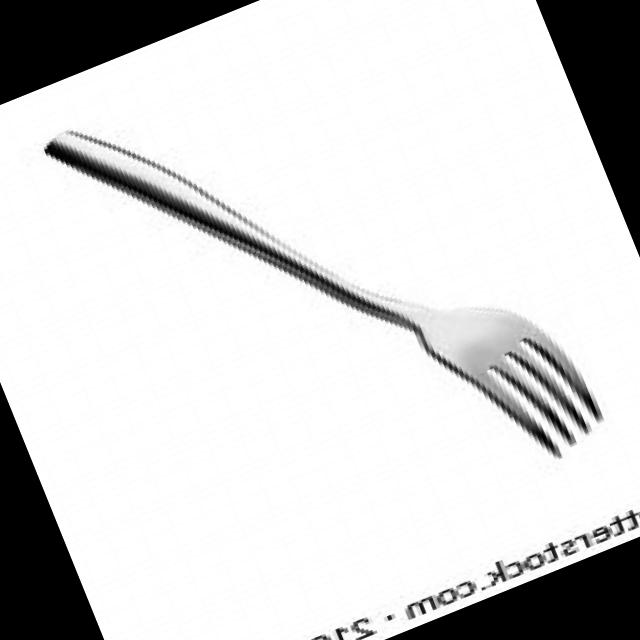fork: (22, 0, 618, 604)
